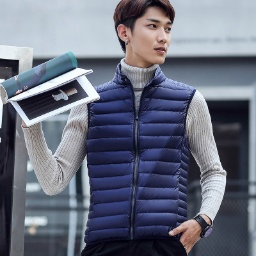face: (114, 1, 175, 67)
